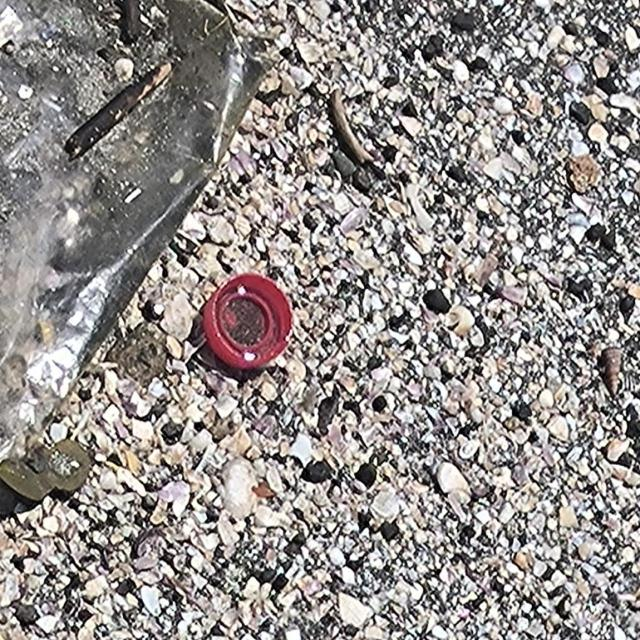plastic_waste: (1, 1, 277, 483), (202, 275, 294, 373)
